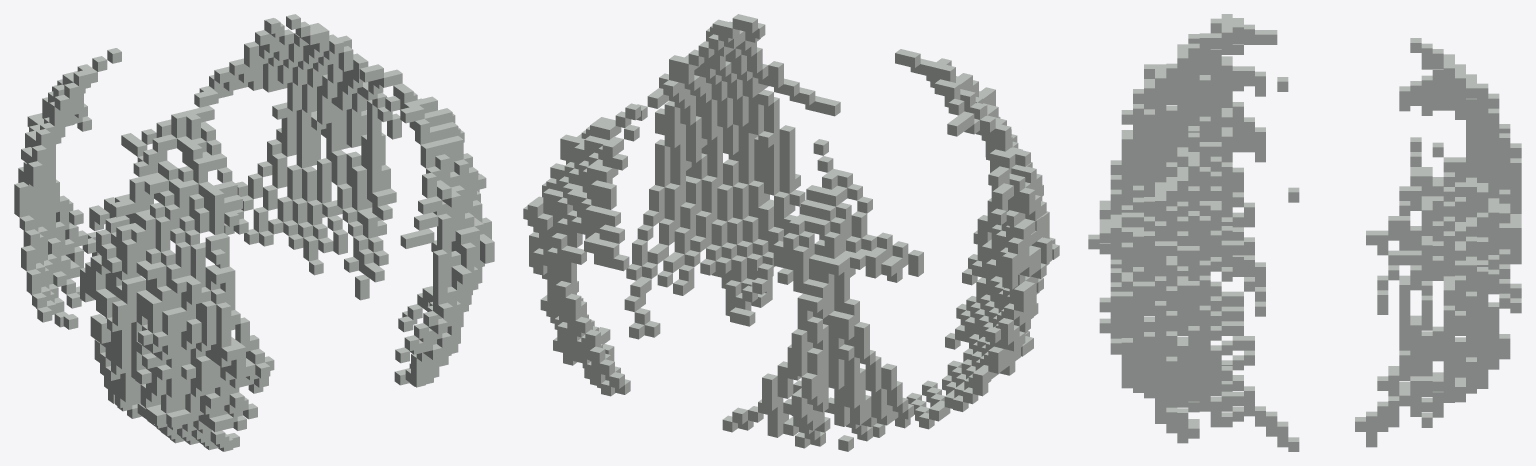
The model's file is Estrela_Neutrons#c7ccc8.dae.
3 views of the same model, side by side, from view 1: azimuth 30°, elevation 25°; view 2: azimuth 150°, elevation 25°; view 3: azimuth 270°, elevation 25° (orthographic). The views are drawn at different scales.
Visible parts, largest first — view 1: Estrela_Neutrons#c7ccc8-obj.vox; view 2: Estrela_Neutrons#c7ccc8-obj.vox; view 3: Estrela_Neutrons#c7ccc8-obj.vox.
Part boxes in pixels (bbox=[...]): Estrela_Neutrons#c7ccc8-obj.vox: bbox=[14, 14, 494, 451]; Estrela_Neutrons#c7ccc8-obj.vox: bbox=[523, 14, 1059, 451]; Estrela_Neutrons#c7ccc8-obj.vox: bbox=[1088, 14, 1521, 451].
Bounding box in the file's own units: 4 × 3.9 × 3.8.
